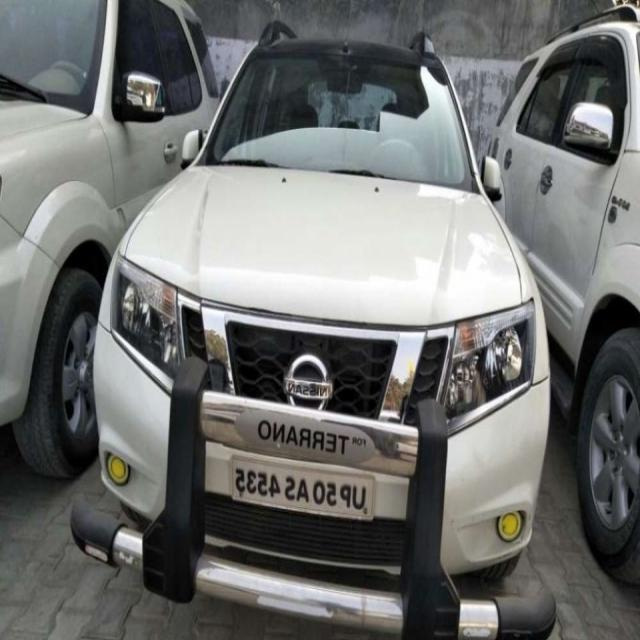license_plate: (230, 451, 377, 524)
